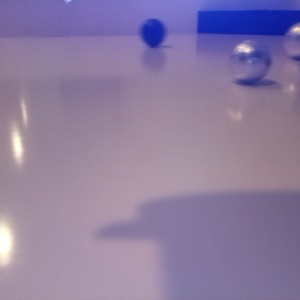alive_ball: (229, 38, 271, 83), (283, 22, 300, 58)
dead_ball: (140, 17, 166, 46)
